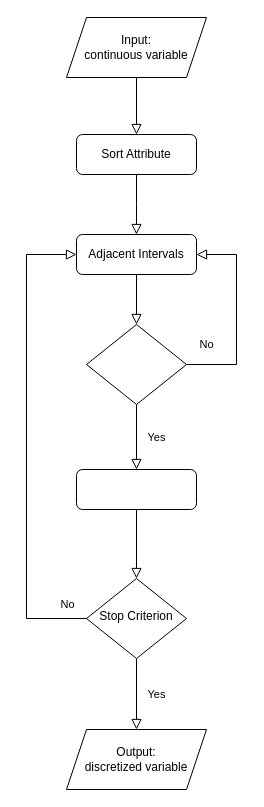
Image size: 264x807. Some labels were removed from this diagram. The shapes that lost their labels are listed below. From the top down, each one's centre as x and y in pixels, then its label:
the point at 136,364: Measure Statisfies
the point at 136,489: Merge Attribute
